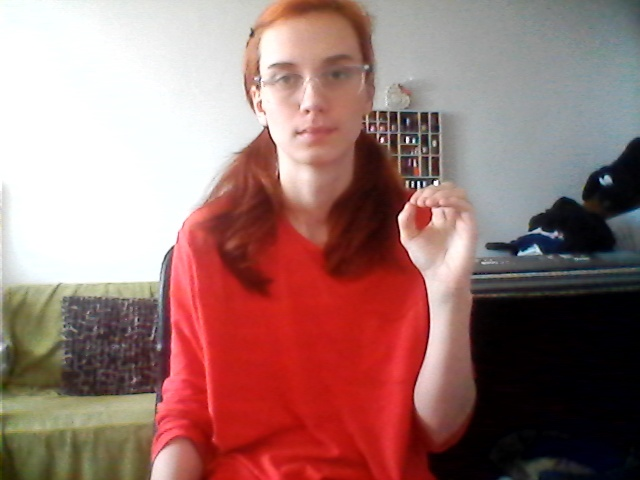o: (388, 179, 485, 299)
